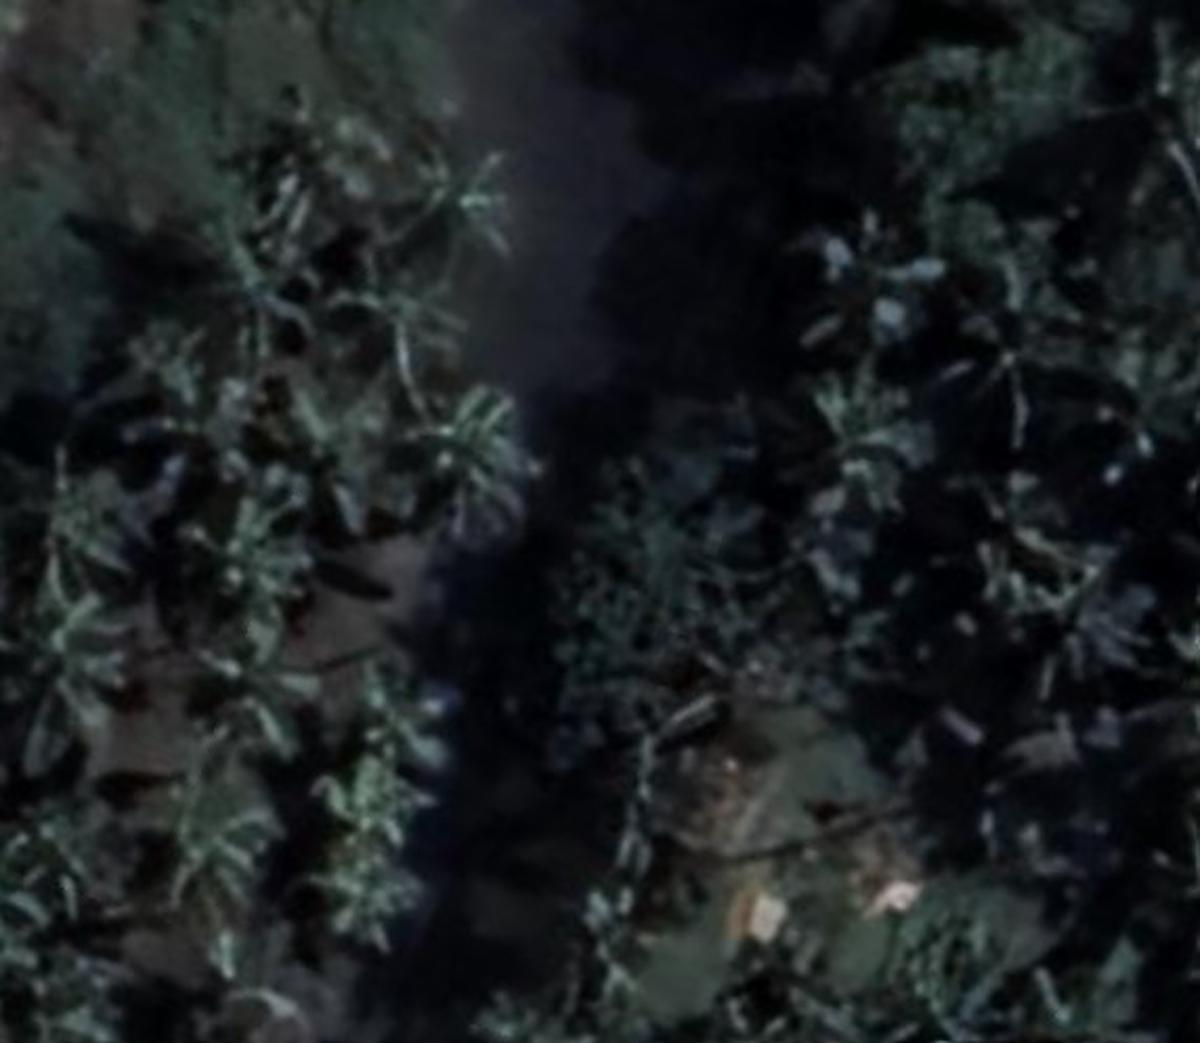coconut: (392, 379, 553, 549), (944, 258, 1086, 436), (994, 528, 1145, 690), (161, 480, 329, 623), (780, 224, 941, 369), (266, 384, 409, 543), (180, 224, 316, 365), (197, 612, 323, 753), (316, 256, 453, 384), (159, 765, 293, 891), (243, 104, 386, 216), (2, 818, 123, 948), (793, 379, 912, 507), (140, 371, 258, 491), (16, 585, 138, 698), (346, 650, 467, 757), (402, 144, 524, 249), (31, 461, 134, 581), (316, 753, 434, 849), (324, 852, 424, 961)
